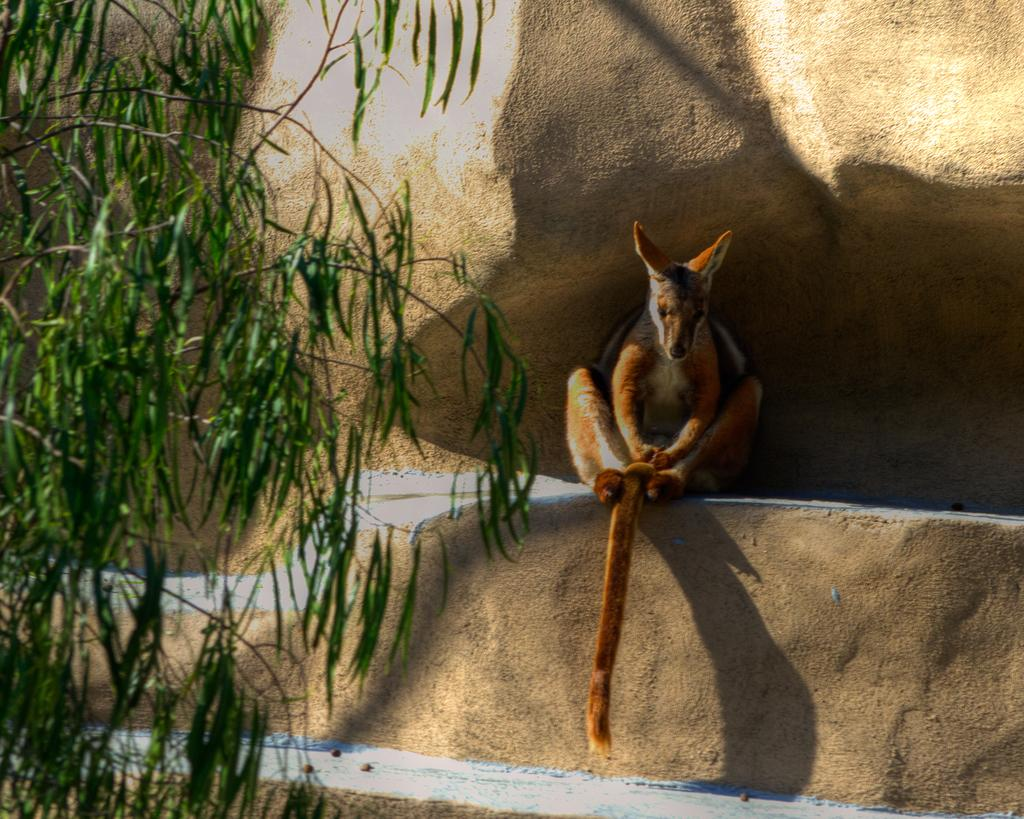kangaroo: (566, 222, 764, 763)
